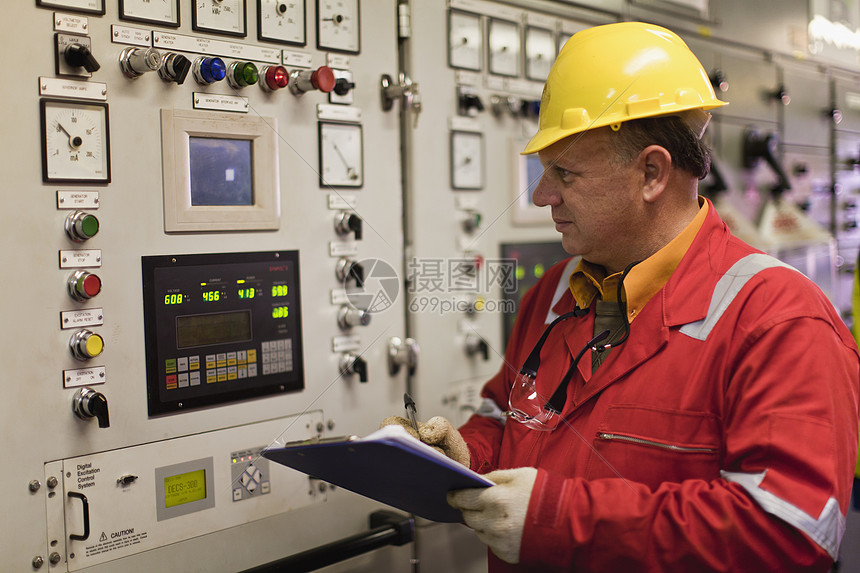safetyhat: (400, 15, 853, 572)
